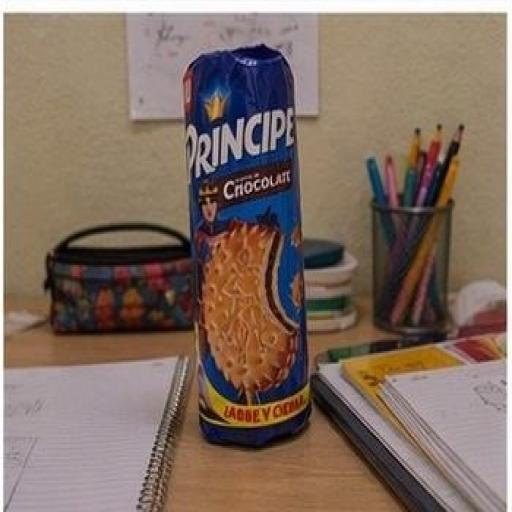prince: (121, 30, 370, 512)
